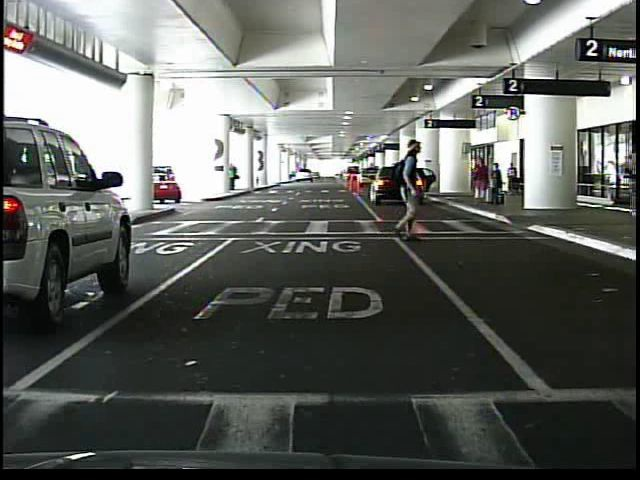person: (377, 138, 433, 241), (468, 158, 491, 203), (624, 149, 638, 214), (491, 162, 505, 205), (507, 162, 517, 193), (229, 164, 239, 193)
